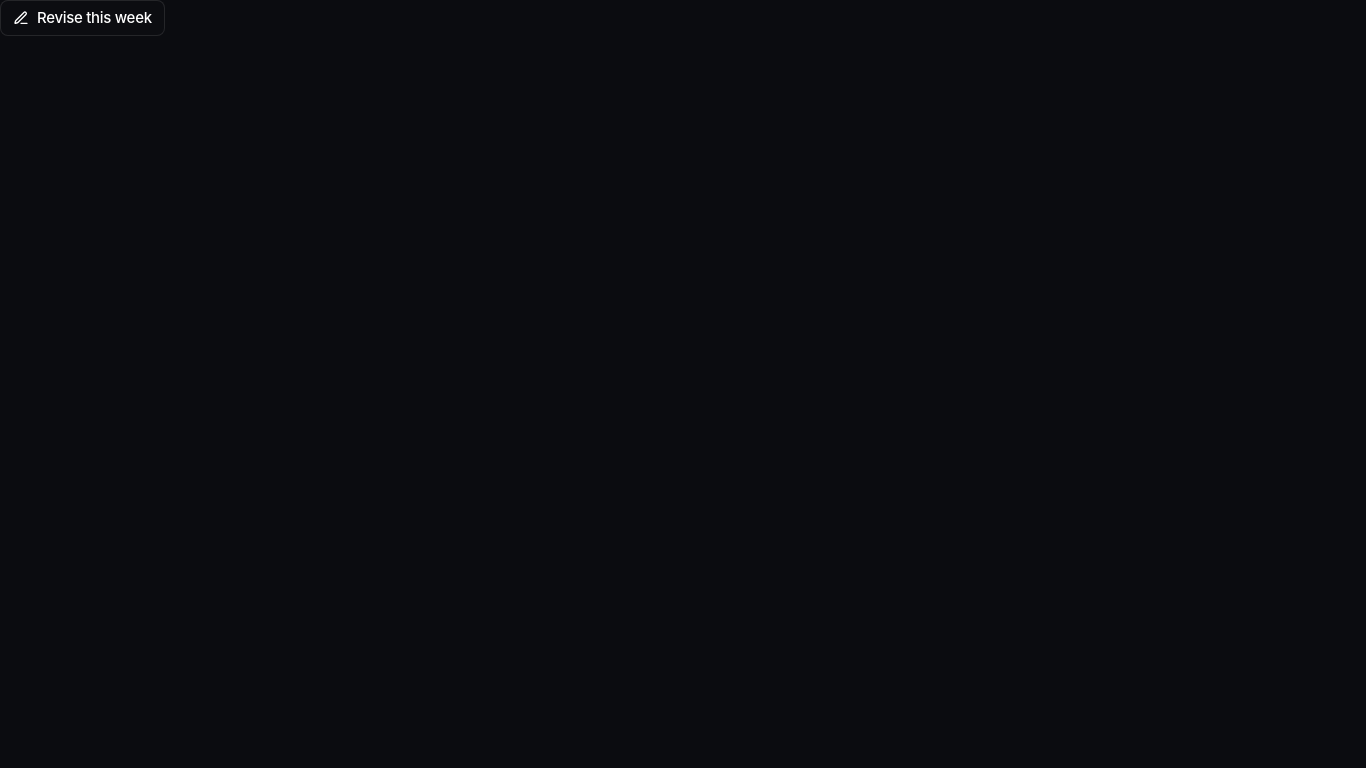
it: the plan buttons when a press gets no answer › Revise the week keeps the dialog and the note, and says it is not sent yet
The width and height of the screenshot is (1366, 768).
Click the button "Revise this week" at {"x": 82, "y": 18}, box [0,0,165,36]
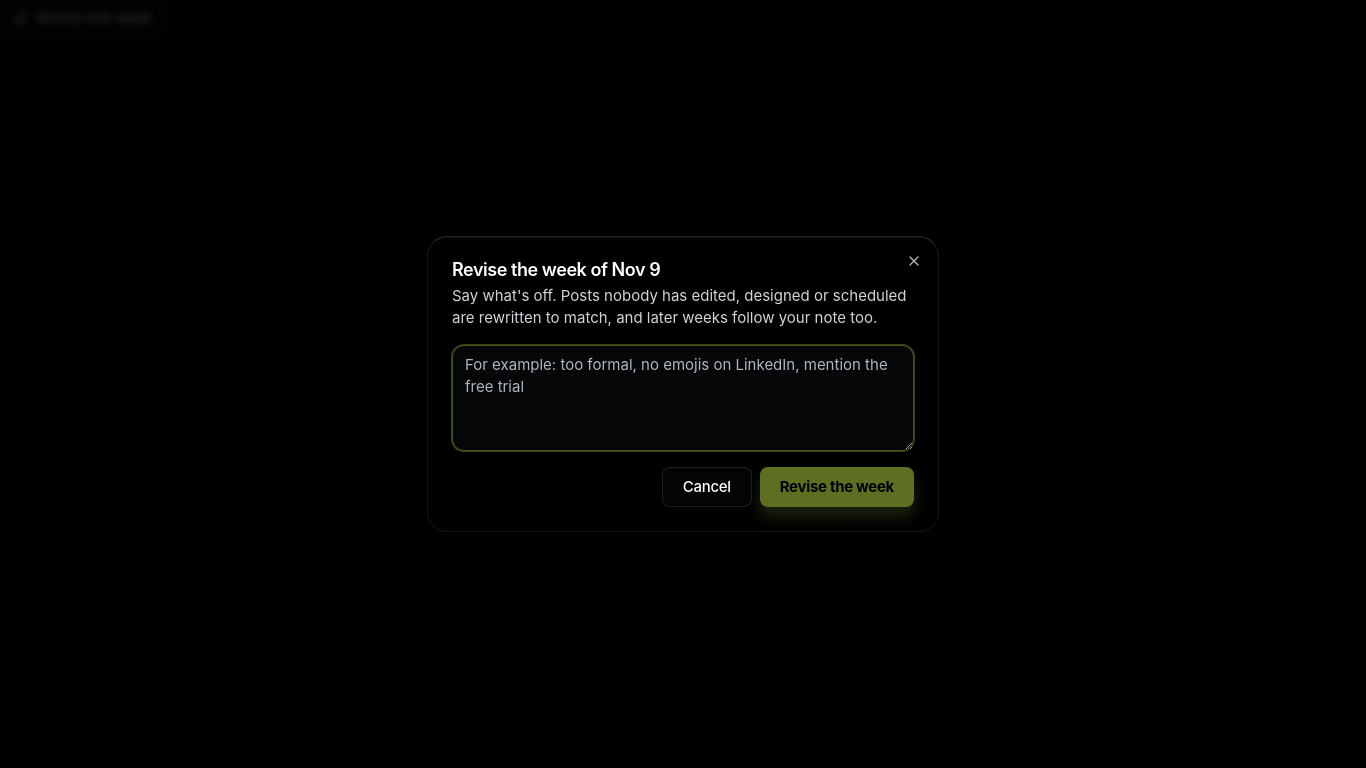
Replace the text in the text box named "What should change" with "Less formal" at {"x": 683, "y": 398}, box [452,345,914,451]
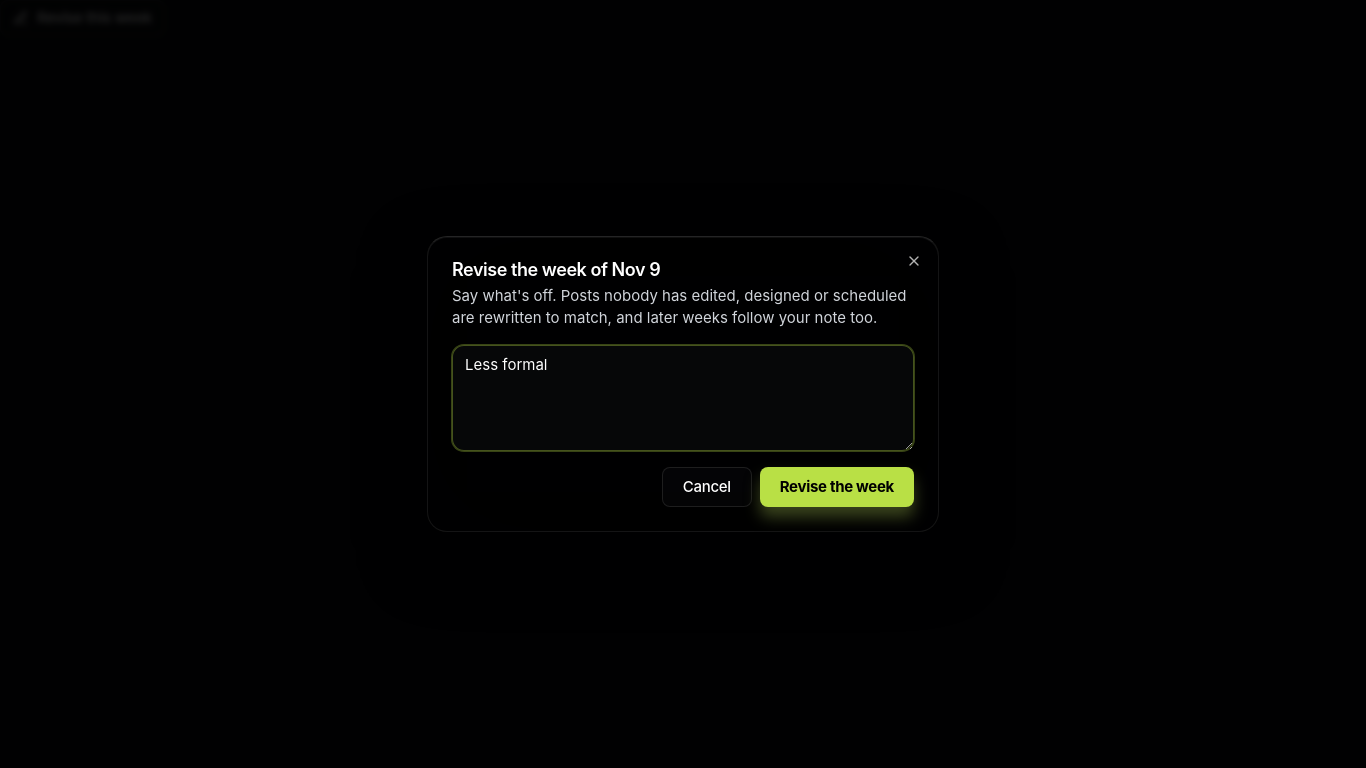
Click the button "Revise the week" at {"x": 837, "y": 487}, box [760,467,914,507]
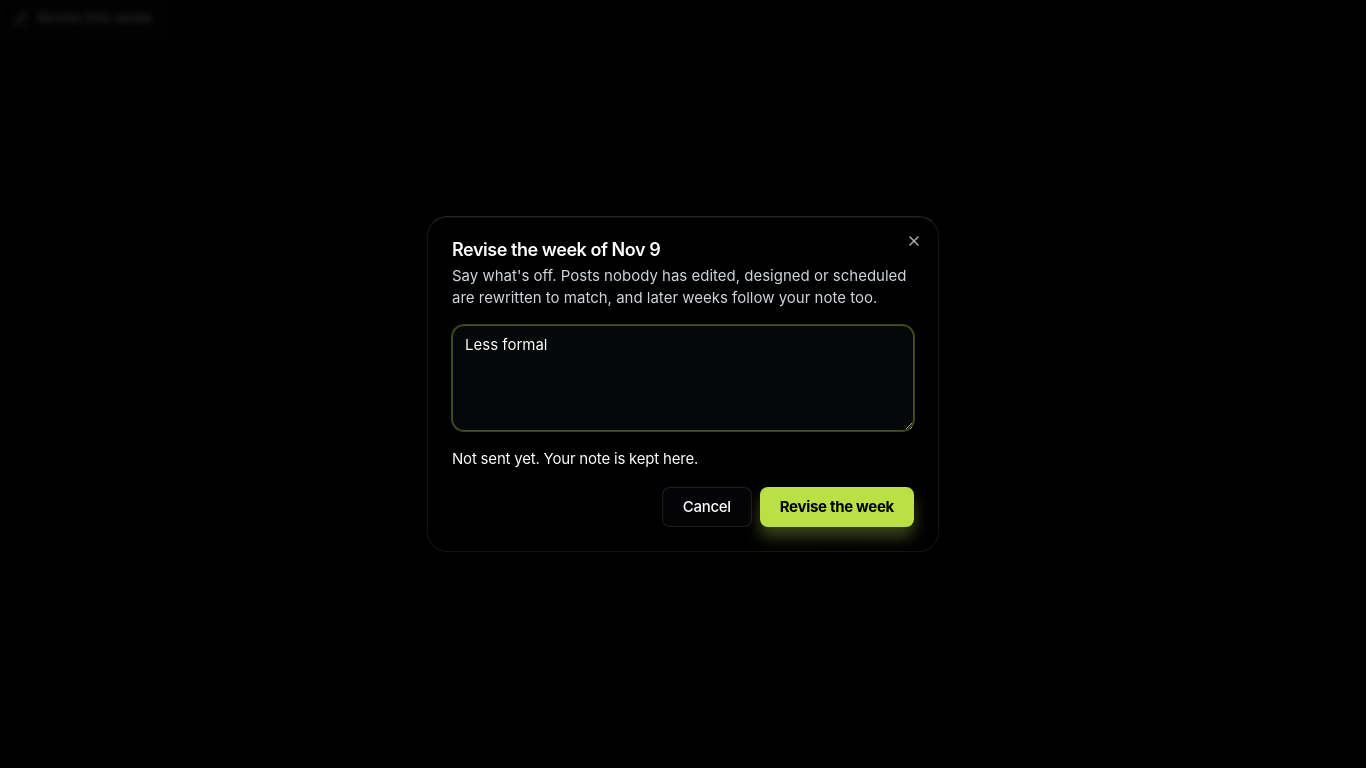
Expected: the text "Not sent yet. Your note is kept here." is shown, [452,449,698,468]
